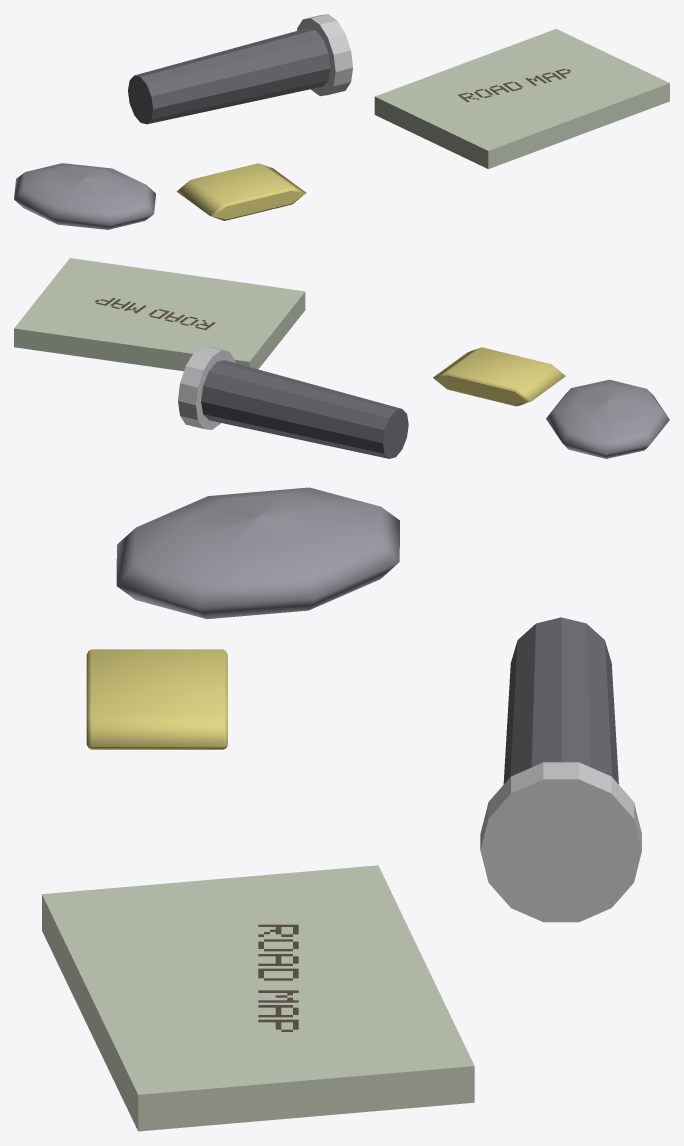
The model's file is cruiser_old_kit_a.glb.
3 renders of one model, top to bottom at view 1: azimuth 30°, elevation 25°; view 2: azimuth 150°, elevation 25°; view 3: azimuth 270°, elevation 25°, orthographic. The views are drawn at different scales.
Visible parts, largest first — view 1: body; view 2: body; view 3: body.
Part boxes in pixels (bbox=[...]): body: bbox=[14, 14, 669, 229]; body: bbox=[14, 258, 669, 458]; body: bbox=[42, 487, 641, 1131].
Bounding box in the file's own units: 0.6988 × 0.078 × 0.2971.
